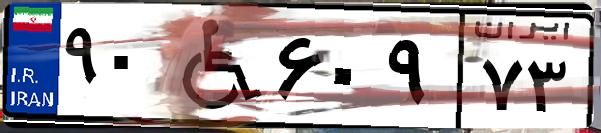0: (330, 28, 385, 110), (110, 28, 158, 98)
3: (525, 38, 570, 115)
6: (270, 28, 330, 110)
7: (475, 38, 525, 113)
9: (385, 28, 445, 110), (57, 26, 110, 100)
ژ (معلولین و جانبازان): (158, 12, 270, 120)
